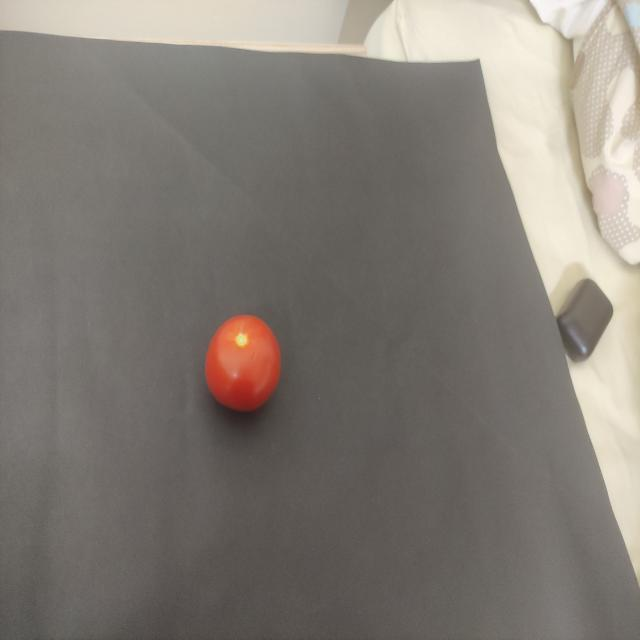kirmizi: (198, 302, 286, 433)
